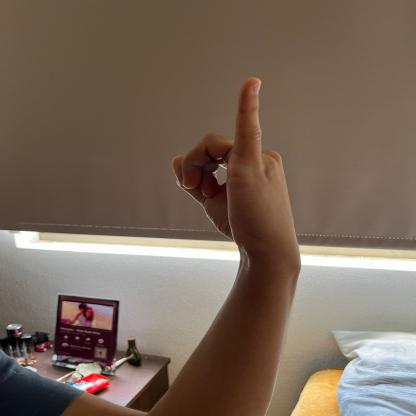I: (165, 72, 307, 247)
